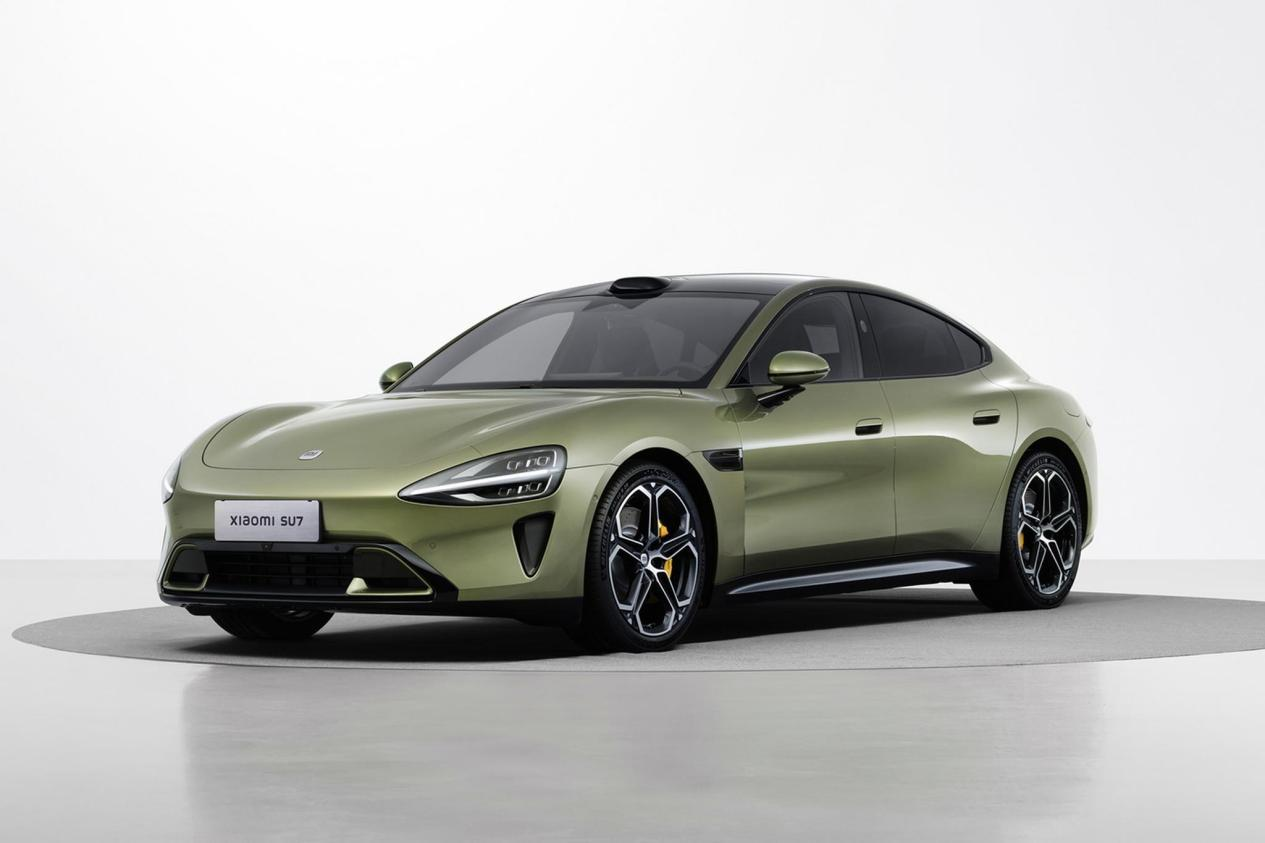su7: (164, 265, 1101, 623)
